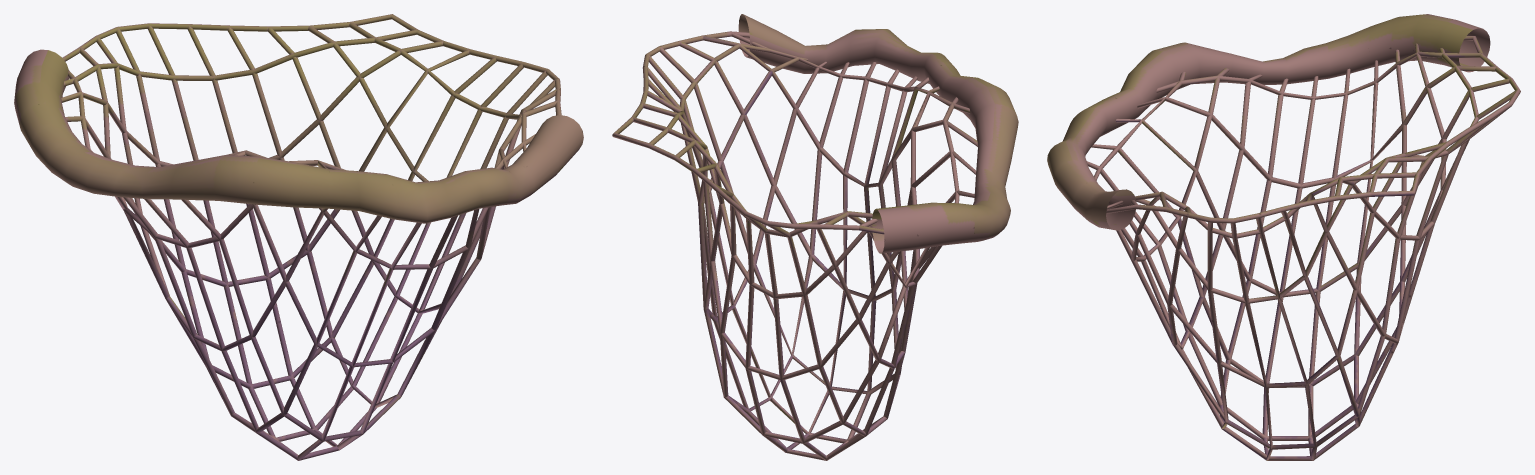
Rendered from basket.fbx.
3 renders of one model, left to right at view 1: azimuth 30°, elevation 25°; view 2: azimuth 150°, elevation 25°; view 3: azimuth 270°, elevation 25°, orthographic. The views are drawn at different scales.
Parts seen in each view (by area): view 1: basket; view 2: basket; view 3: basket.
Part boxes in pixels (box(x1,y1,x2,y2)): basket: box(14, 14, 583, 460); basket: box(612, 14, 1018, 460); basket: box(1047, 14, 1520, 460).
Size of the model in its own units: 190 by 150 by 186.
